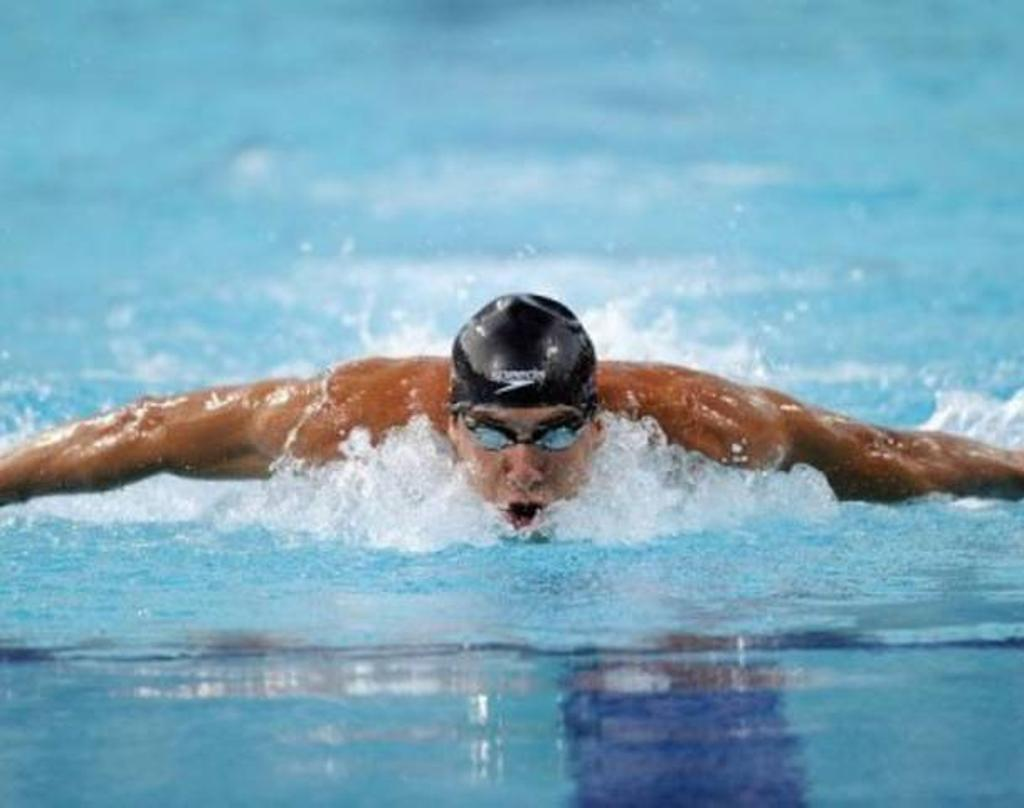face: (458, 374, 596, 552)
